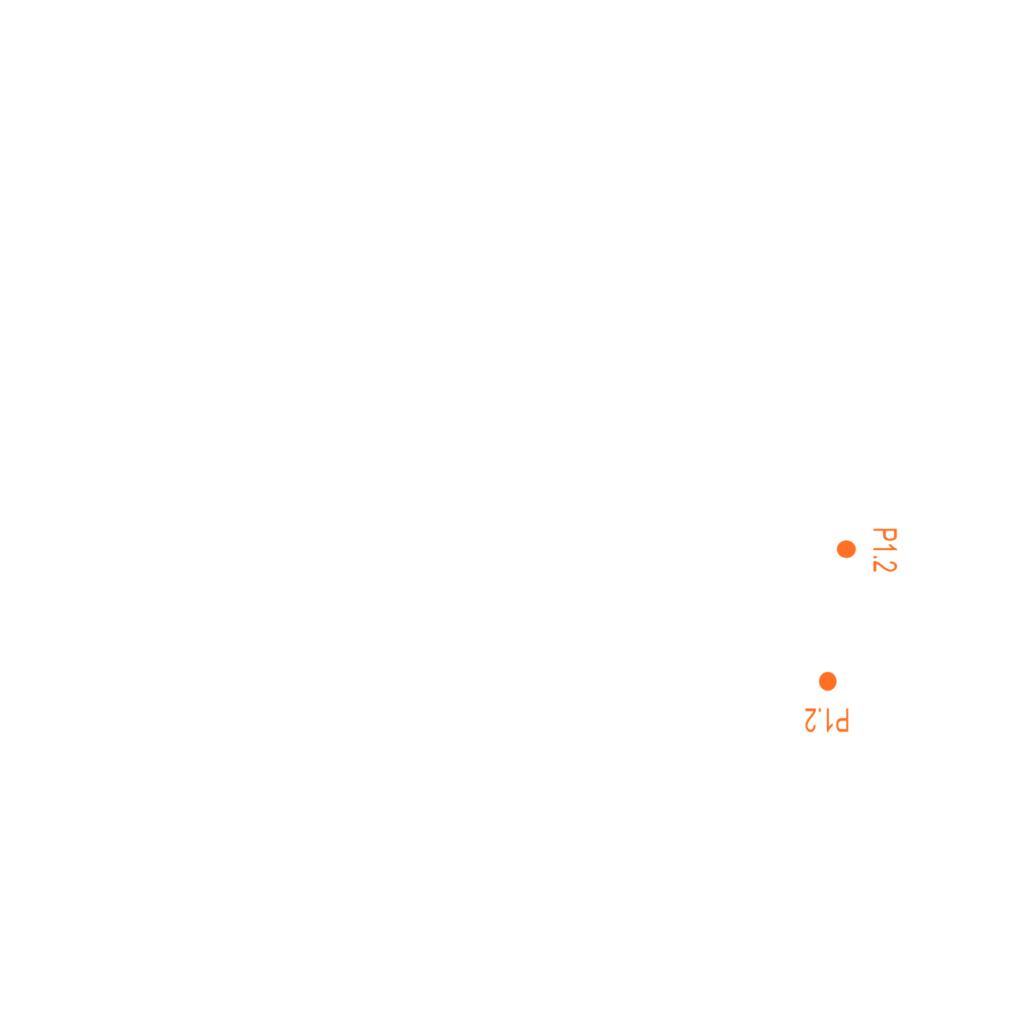Downlight_LED_Einbauleuchten_Flur: (835, 527, 899, 573), (804, 670, 850, 734)
